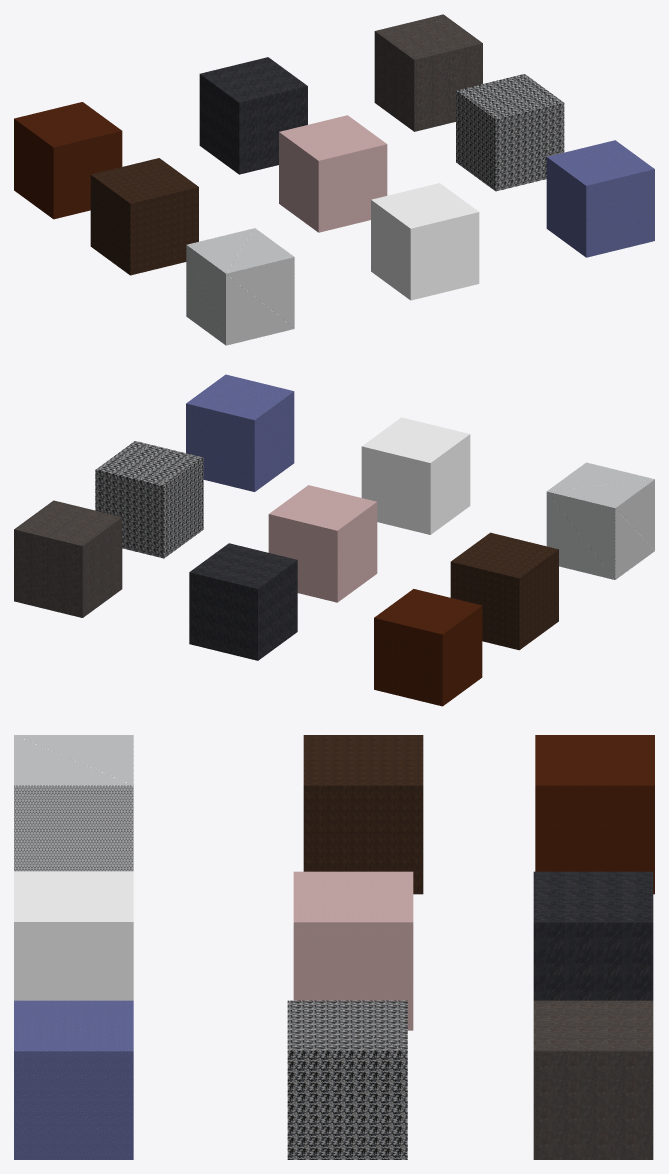
3 renders of one model, top to bottom at view 1: azimuth 30°, elevation 25°; view 2: azimuth 150°, elevation 25°; view 3: azimuth 270°, elevation 25°, orthographic. The views are drawn at different scales.
Parts seen in each view (by area): view 1: Cube.006, Cube.005, Cube.004, Cube.007, Cube, Cube.003, Cube.002, Cube.001, Cube.008; view 2: Cube.001, Cube.002, Cube.008, Cube.006, Cube.005, Cube.004, Cube.003, Cube, Cube.007; view 3: Cube.003, Cube.002, Cube.004, Cube.007, Cube.008, Cube.006, Cube, Cube.001, Cube.005.
Part boxes in pixels (x1=…): Cube.006: x1=186, y1=228, x2=294, y2=345; Cube.005: x1=371, y1=183, x2=479, y2=300; Cube.004: x1=546, y1=140, x2=654, y2=257; Cube.007: x1=90, y1=158, x2=198, y2=275; Cube: x1=279, y1=115, x2=387, y2=232; Cube.003: x1=456, y1=74, x2=564, y2=191; Cube.002: x1=374, y1=14, x2=482, y2=131; Cube.001: x1=199, y1=57, x2=307, y2=174; Cube.008: x1=14, y1=102, x2=122, y2=219; Cube.001: x1=189, y1=543, x2=297, y2=660; Cube.002: x1=14, y1=500, x2=122, y2=617; Cube.008: x1=374, y1=589, x2=482, y2=706; Cube.006: x1=546, y1=462, x2=654, y2=579; Cube.005: x1=361, y1=417, x2=470, y2=534; Cube.004: x1=186, y1=374, x2=294, y2=491; Cube.003: x1=95, y1=441, x2=203, y2=558; Cube: x1=268, y1=485, x2=377, y2=602; Cube.007: x1=450, y1=532, x2=558, y2=650; Cube.003: x1=287, y1=1000, x2=407, y2=1159; Cube.002: x1=533, y1=1000, x2=653, y2=1159; Cube.004: x1=14, y1=1000, x2=133, y2=1159; Cube.007: x1=303, y1=735, x2=423, y2=894; Cube.008: x1=535, y1=735, x2=654, y2=894; Cube.006: x1=14, y1=735, x2=133, y2=871; Cube: x1=293, y1=871, x2=413, y2=1030; Cube.001: x1=533, y1=871, x2=653, y2=1000; Cube.005: x1=14, y1=871, x2=133, y2=1000.
Size of the model in its own units: 62.45 by 10 by 53.49.
Materials: 9 (8 with a texture image).
